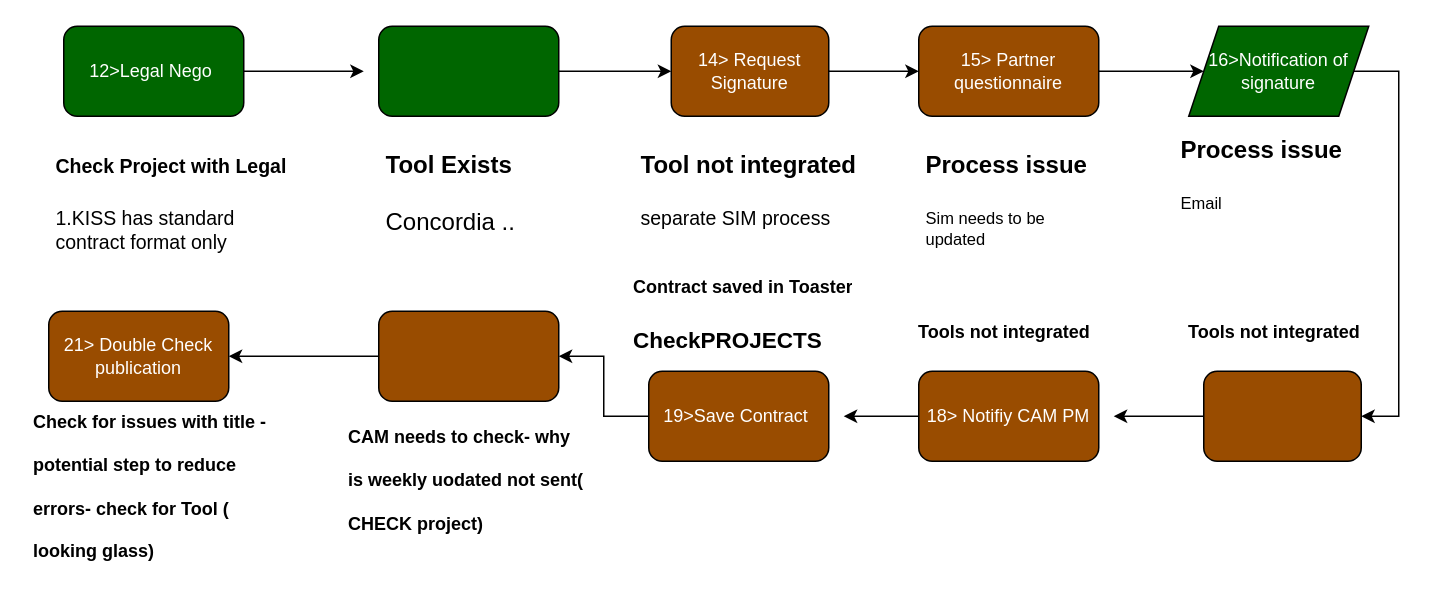
Some shapes in this 1437 by 608 pixel diagram are drawn without their labels. The shapes that lost their labels are listed below. From the top down, each one's box as (x1, y1, x2, y2) in pixels, then its label:
(377, 25, 559, 116): 13> submit to approval tool
(377, 310, 559, 401): 20>Check GLC
(1202, 370, 1361, 461): 17> Update Concordia / Acqiore and GCT
